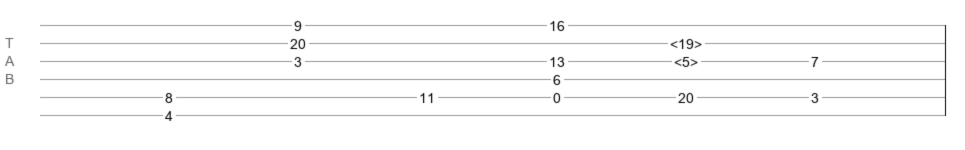0: (553, 90, 561, 100)
11: (419, 90, 435, 100)
13: (549, 54, 565, 64)
16: (549, 18, 565, 28)
20: (290, 36, 306, 46), (678, 90, 694, 100)
3: (294, 54, 302, 64), (811, 90, 819, 100)
4: (165, 108, 173, 118)
6: (553, 72, 561, 82)
7: (811, 54, 819, 64)
8: (165, 90, 173, 100)
9: (294, 18, 302, 28)
harmonic: (670, 36, 702, 46), (674, 54, 698, 64)
